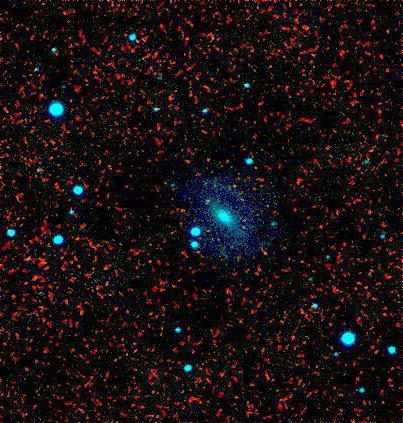star: (193, 187, 223, 217)
